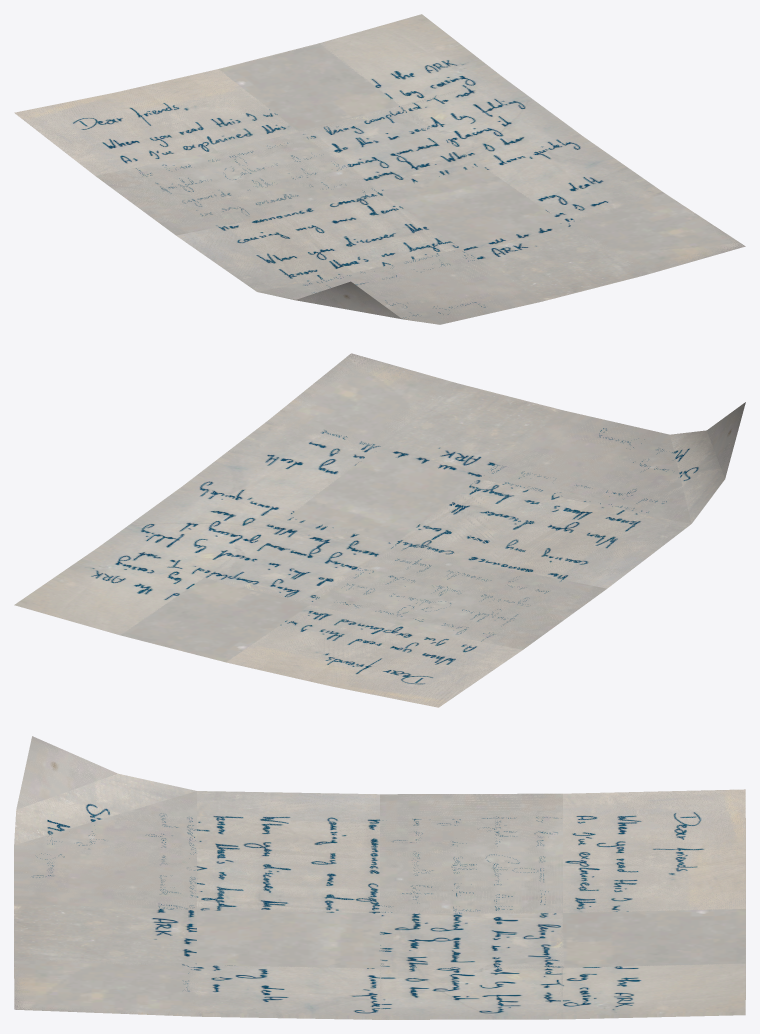
The model's file is note_sarang.dae.
3 views of the same model, one above another, from view 1: azimuth 30°, elevation 25°; view 2: azimuth 150°, elevation 25°; view 3: azimuth 270°, elevation 25° (orthographic). The views are drawn at different scales.
Visible parts, largest first — view 1: divingsuitnote; view 2: divingsuitnote; view 3: divingsuitnote.
Part boxes in pixels (x1,y1,x2,y2): divingsuitnote: (14, 14, 745, 324); divingsuitnote: (14, 353, 745, 707); divingsuitnote: (14, 736, 745, 1019).
Size of the model in its own units: 0.2536 by 0.0404 by 0.3491.
Materials: 1 (1 with a texture image).
